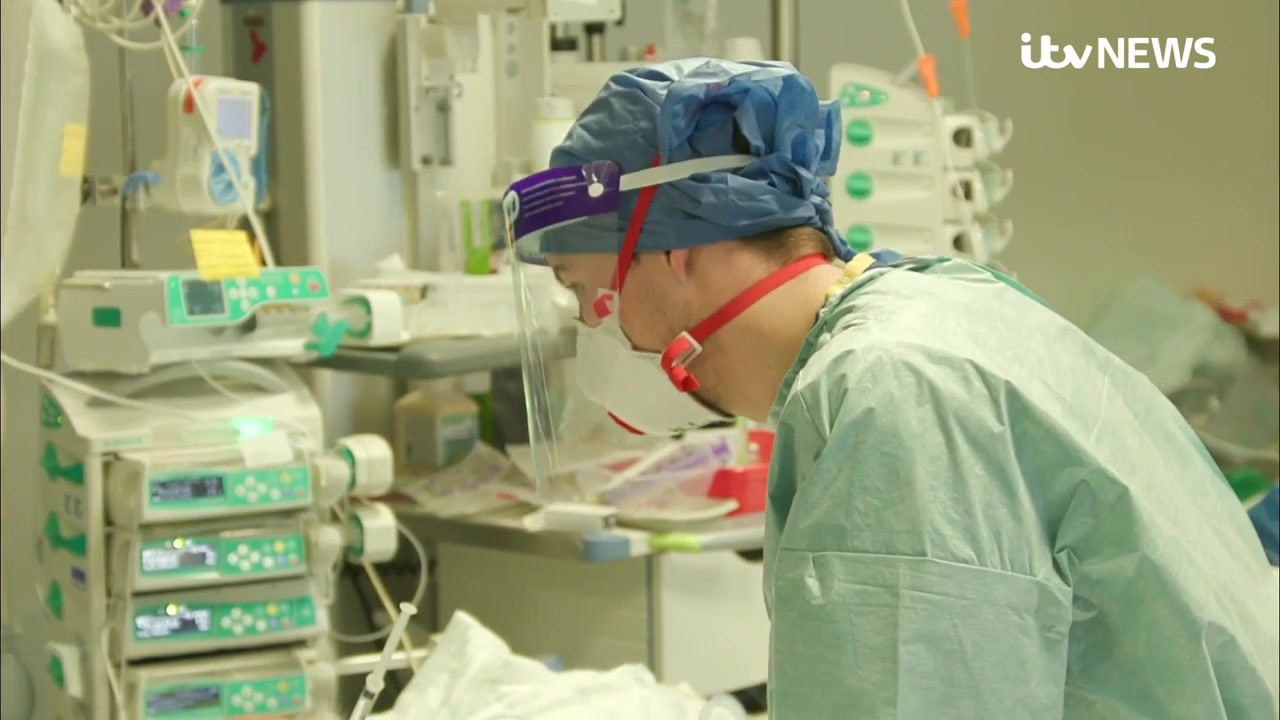iv_pole: (84, 1, 153, 270)
staff: (506, 59, 1280, 720)
syringe_pump: (71, 258, 337, 341), (116, 576, 324, 656), (111, 514, 319, 594), (111, 444, 319, 524), (113, 652, 318, 720)
